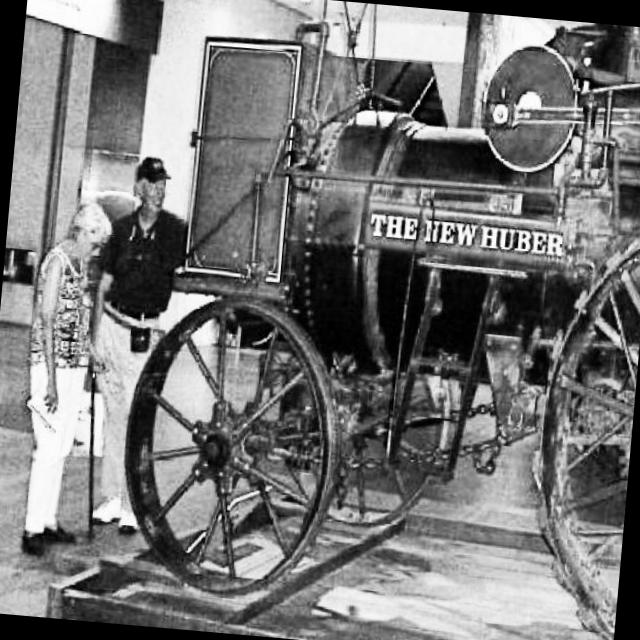Person: (76, 147, 202, 540), (9, 192, 116, 566)
